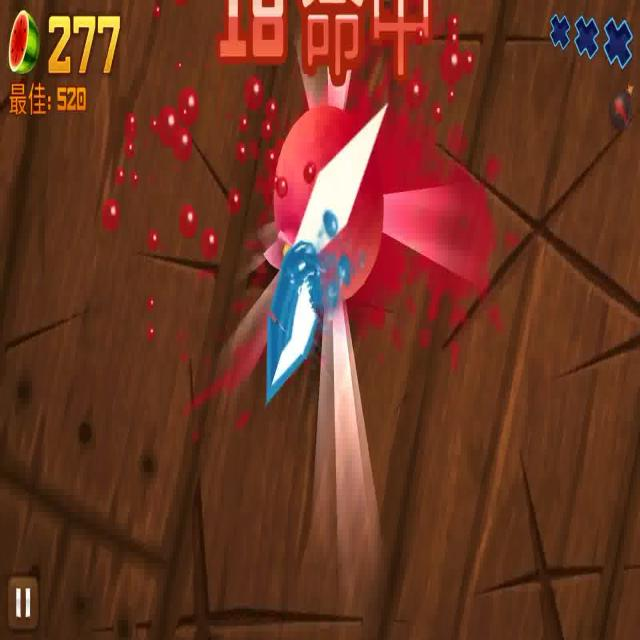fruit: (262, 82, 397, 326)
